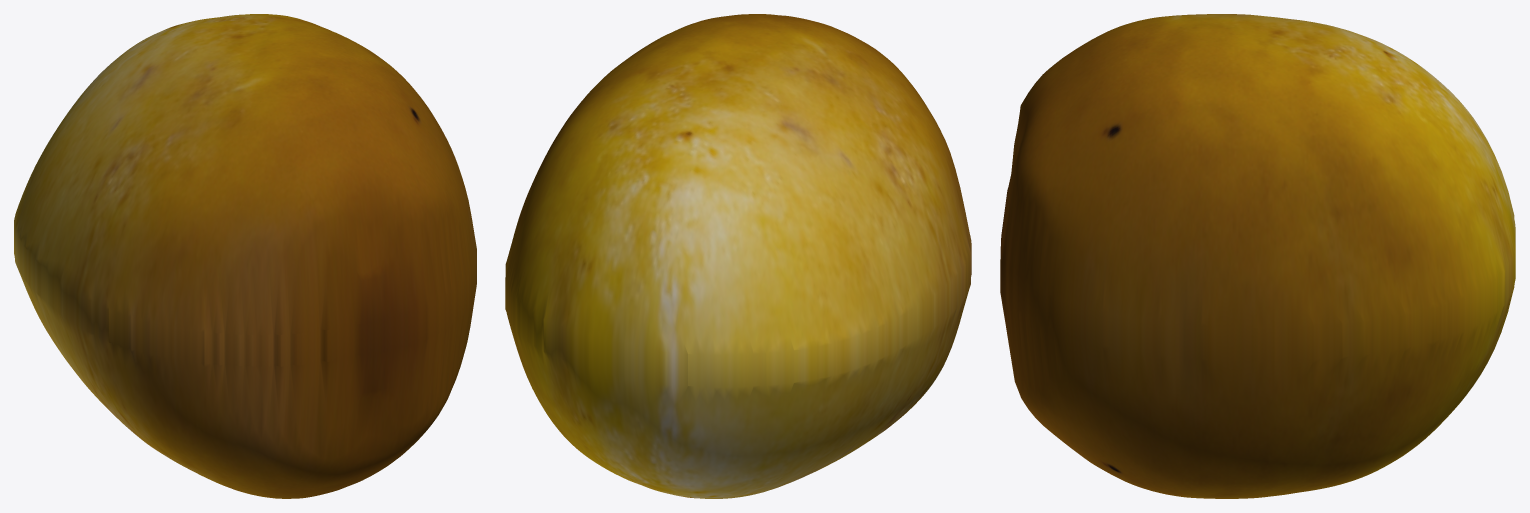
File: lemon_8_2.obj
3 renders of one model, left to right at view 1: azimuth 30°, elevation 25°; view 2: azimuth 150°, elevation 25°; view 3: azimuth 270°, elevation 25°, orthographic. The views are drawn at different scales.
Visible parts, largest first — view 1: Grid; view 2: Grid; view 3: Grid.
Part boxes in pixels (x1,y1,x2,y2): Grid: (14,14,476,498); Grid: (505,14,971,498); Grid: (1000,14,1515,498).
Size of the model in its own units: 1.5 by 1.6 by 1.68.
Materials: 1 (1 with a texture image).
